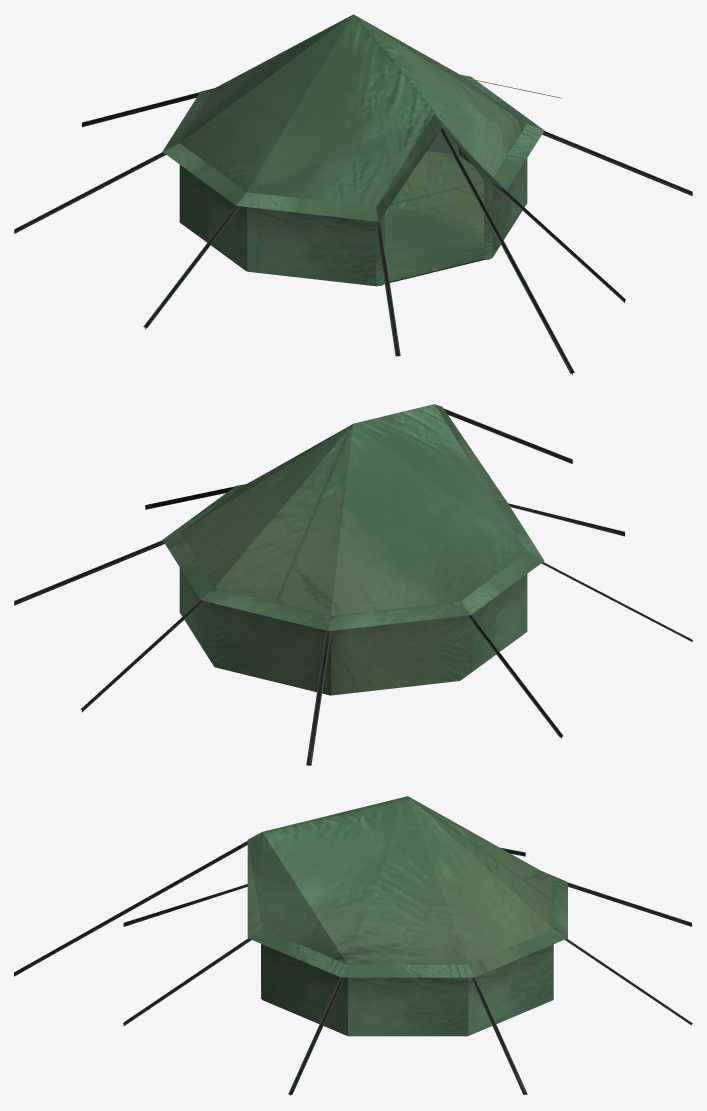
Rendered from Tent01GB.obj.
3 views of the same model, one above another, from view 1: azimuth 30°, elevation 25°; view 2: azimuth 150°, elevation 25°; view 3: azimuth 270°, elevation 25° (orthographic). The views are drawn at different scales.
Parts seen in each view (by area): view 1: Tent01GB; view 2: Tent01GB; view 3: Tent01GB.
Part boxes in pixels (left/top/right/bottom): Tent01GB: left=14, top=14, right=692, bottom=375; Tent01GB: left=14, top=404, right=692, bottom=765; Tent01GB: left=14, top=796, right=692, bottom=1095.
Size of the model in its own units: 10.85 by 3.8 by 12.93.
